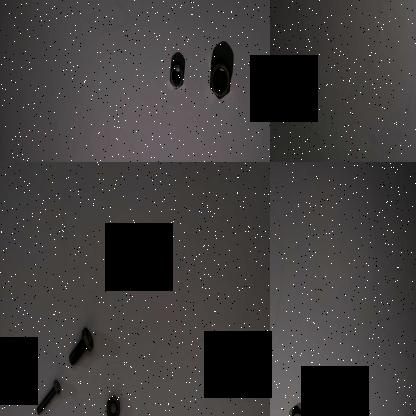Bolts: (31, 373, 61, 416), (66, 324, 94, 366)
NUTS: (206, 55, 232, 101), (167, 56, 185, 93), (101, 387, 123, 416), (325, 395, 355, 416), (285, 401, 307, 416)
